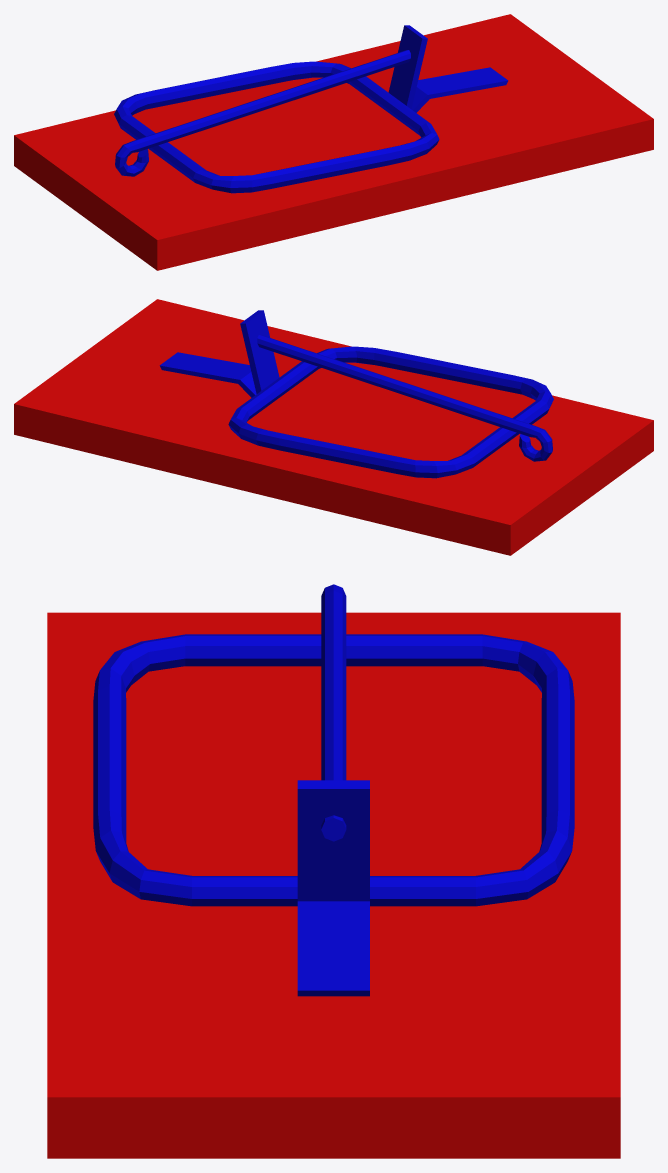
Rendered from Mouse Trap.fbx.
3 renders of one model, top to bottom at view 1: azimuth 30°, elevation 25°; view 2: azimuth 150°, elevation 25°; view 3: azimuth 270°, elevation 25°, orthographic. The views are drawn at different scales.
Visible parts, largest first — view 1: Cylinder.001; view 2: Cylinder.001; view 3: Cylinder.001.
Part boxes in pixels (box(x1,y1,x2,y2)): Cylinder.001: box(14, 14, 653, 270); Cylinder.001: box(14, 299, 653, 555); Cylinder.001: box(47, 584, 620, 1158).
Size of the model in its own units: 20 by 4.1 by 10.
